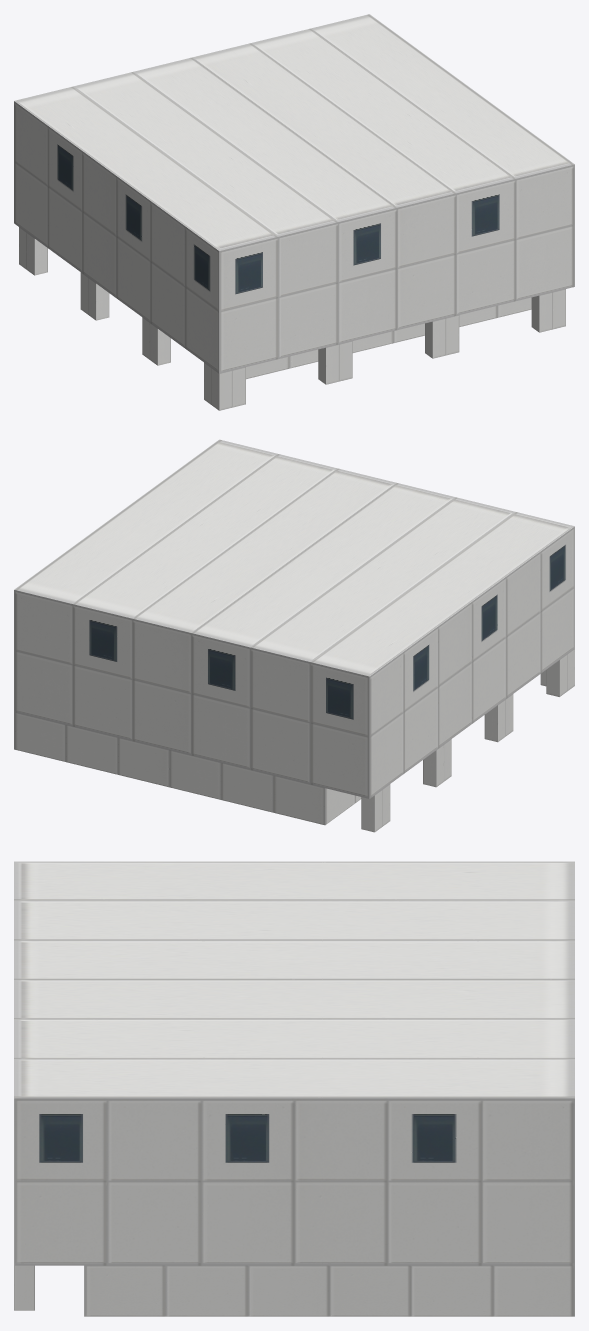
File: Building_02.fbx
3 views of the same model, one above another, from view 1: azimuth 30°, elevation 25°; view 2: azimuth 150°, elevation 25°; view 3: azimuth 270°, elevation 25° (orthographic). The views are drawn at different scales.
Visible parts, largest first — view 1: polySurface30; view 2: polySurface30; view 3: polySurface30.
Part boxes in pixels (x1,y1,x2,y2): polySurface30: (14,14,574,410); polySurface30: (14,439,574,832); polySurface30: (14,861,574,1316).
Bounding box in the file's own units: 4000 × 1716 × 4000.
